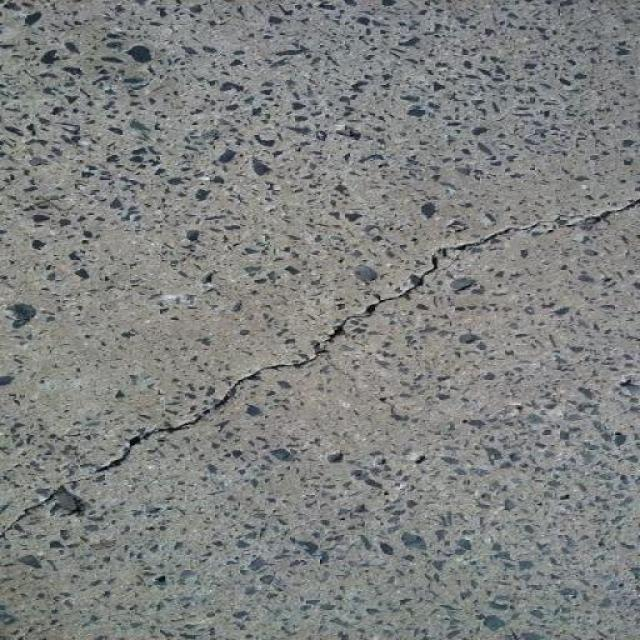Crack: (1, 200, 639, 540)
